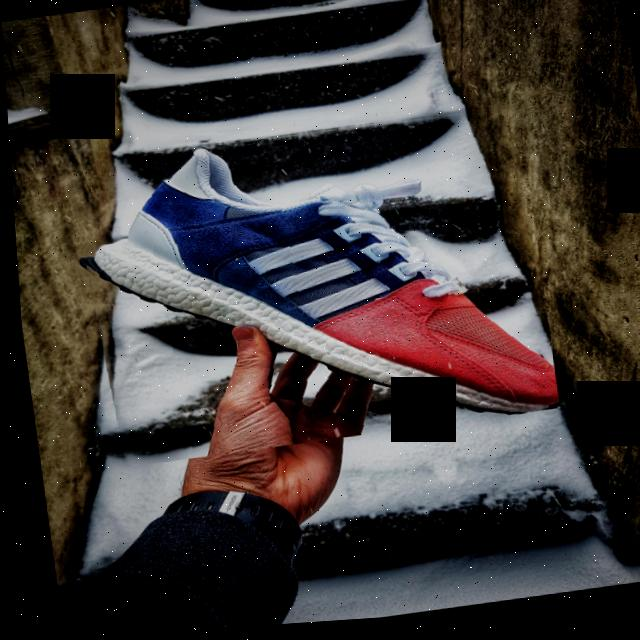shoe: (62, 108, 555, 472)
